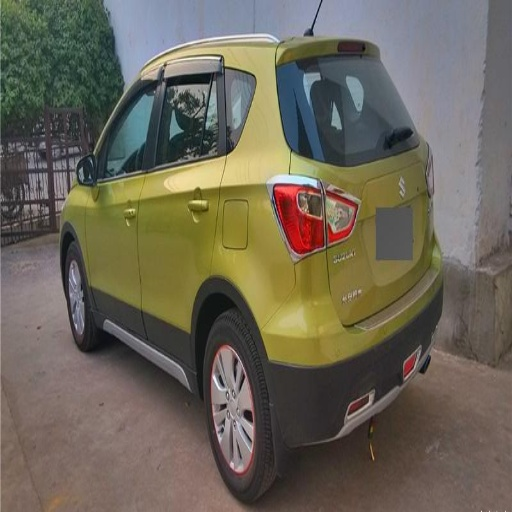back_bumper: (247, 253, 442, 446)
back_glass: (278, 55, 412, 164)
back_left_door: (139, 52, 230, 350)
trunk: (322, 152, 427, 324)
